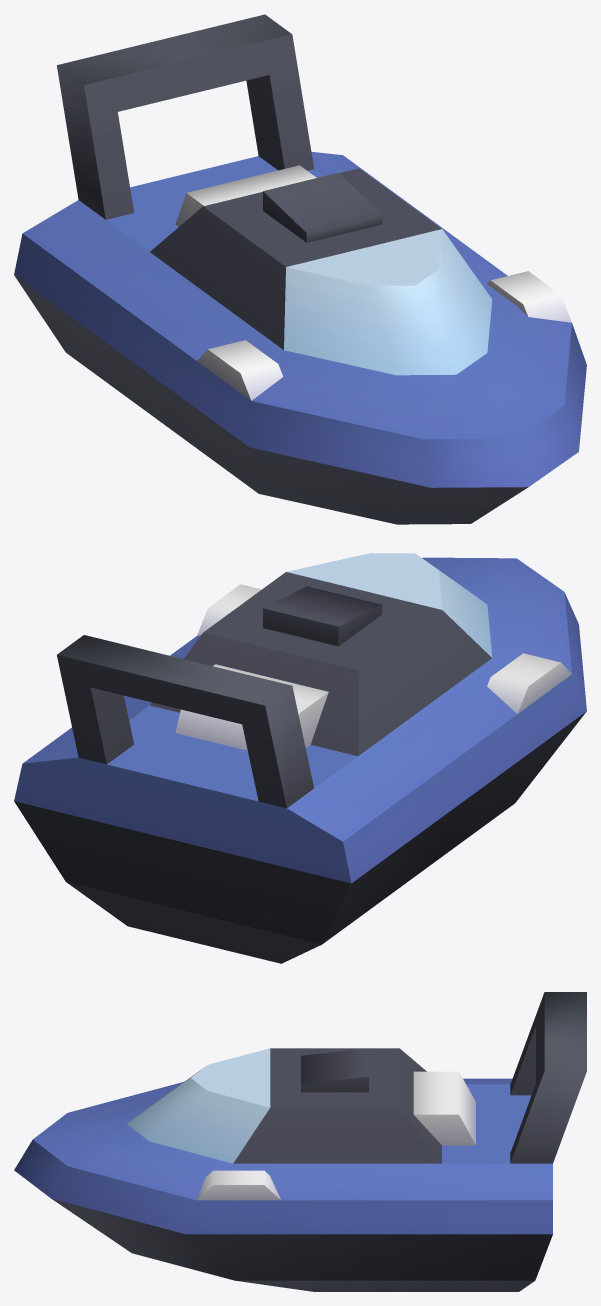
The model's file is k.boat_speed_a.glb.
3 views of the same model, one above another, from view 1: azimuth 30°, elevation 25°; view 2: azimuth 150°, elevation 25°; view 3: azimuth 270°, elevation 25° (orthographic). The views are drawn at different scales.
Parts seen in each view (by area): view 1: boat-speed-a; view 2: boat-speed-a; view 3: boat-speed-a.
Boxes of the visible parts, x1,y1,x2,y2 form: boat-speed-a: [14, 14, 586, 524]; boat-speed-a: [14, 553, 586, 963]; boat-speed-a: [14, 992, 586, 1291].
Size of the model in its own units: 2.27 by 1.91 by 4.29.
Materials: 1 (1 with a texture image).
